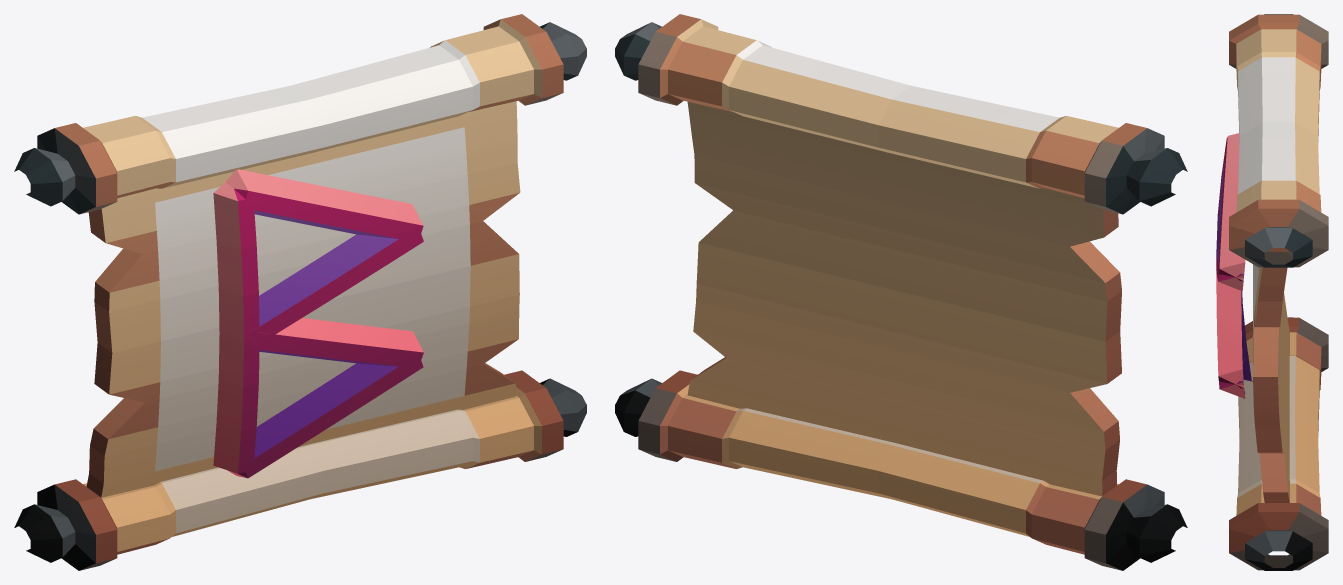
The model's file is scroll_magenta_berkano.glb.
3 views of the same model, side by side, from view 1: azimuth 30°, elevation 25°; view 2: azimuth 150°, elevation 25°; view 3: azimuth 270°, elevation 25° (orthographic). The views are drawn at different scales.
Visible parts, largest first — view 1: model; view 2: model; view 3: model.
Part boxes in pixels (x1=…): model: x1=14, y1=14, x2=586, y2=570; model: x1=615, y1=14, x2=1187, y2=570; model: x1=1216, y1=14, x2=1328, y2=570.
Size of the model in its own units: 0.88 by 0.64 by 0.18.
1 material, 1 textured.
